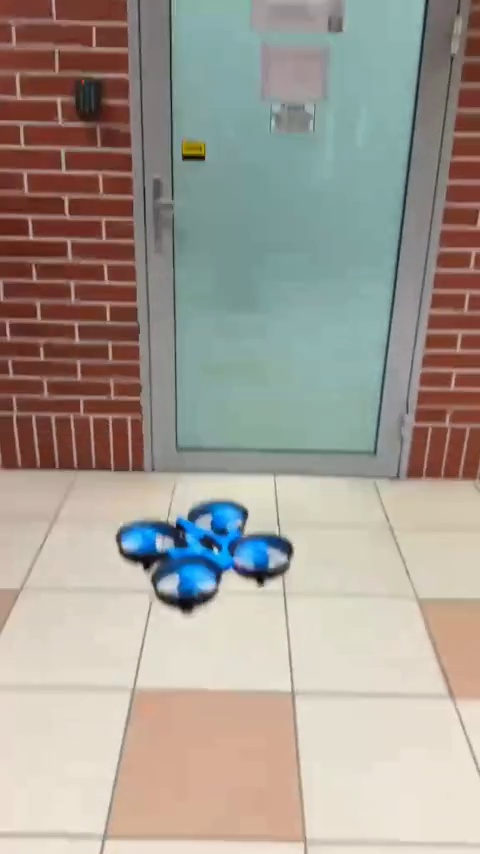drone: (116, 499, 294, 605)
